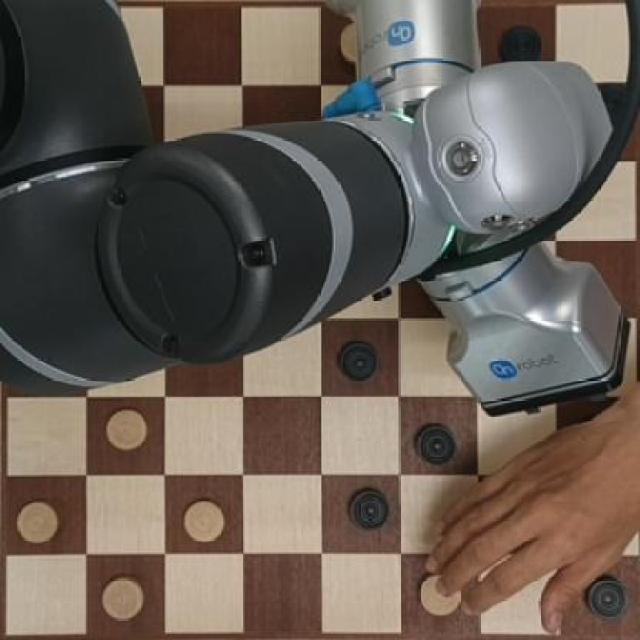black: (343, 484, 395, 546), (336, 335, 384, 387), (414, 419, 460, 471), (588, 579, 627, 623)
white: (180, 493, 229, 550), (100, 571, 148, 622), (14, 498, 61, 548), (102, 406, 147, 451)
